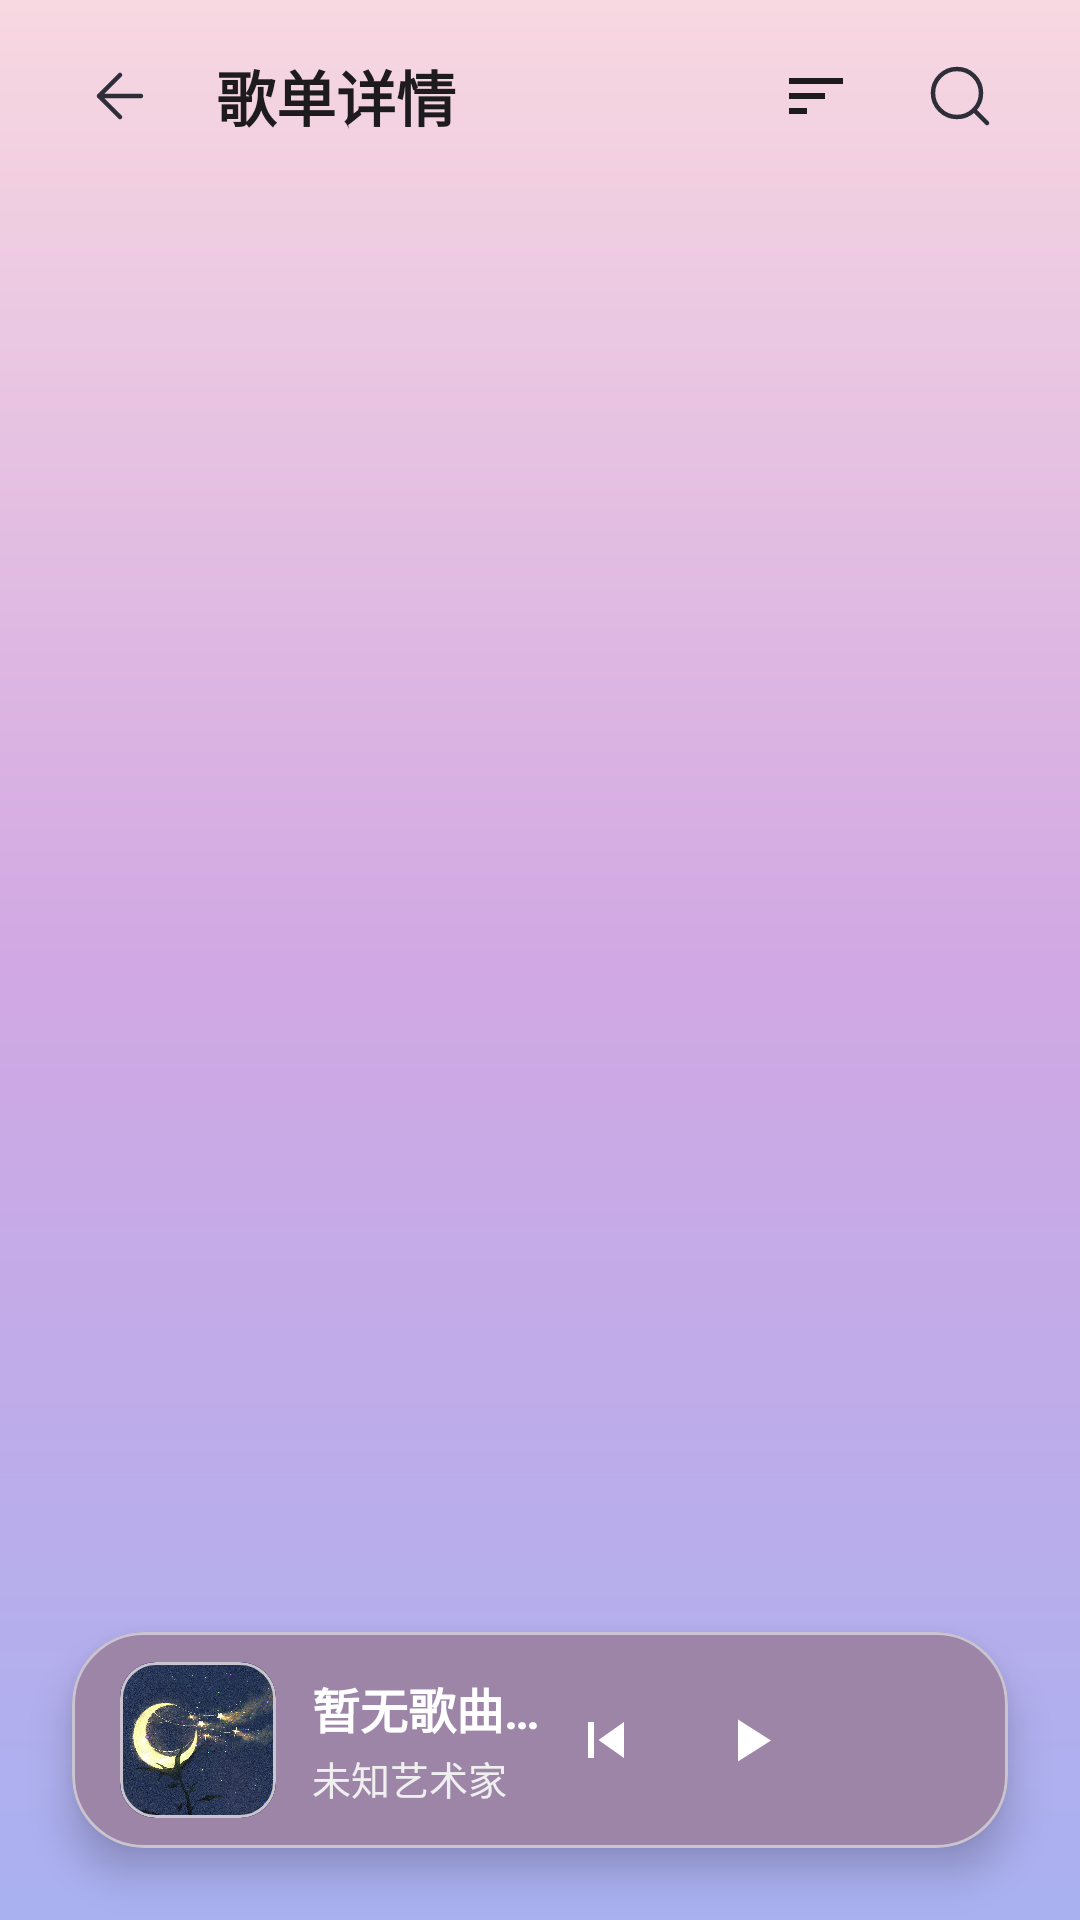

Icon click points for this 1080px x 1920px phone screenshot, format (x,y):
上一曲: (606,1740)
排序: (816,96)
搜索: (960,96)
播放/暂停: (754,1740)
返回: (119,96)
